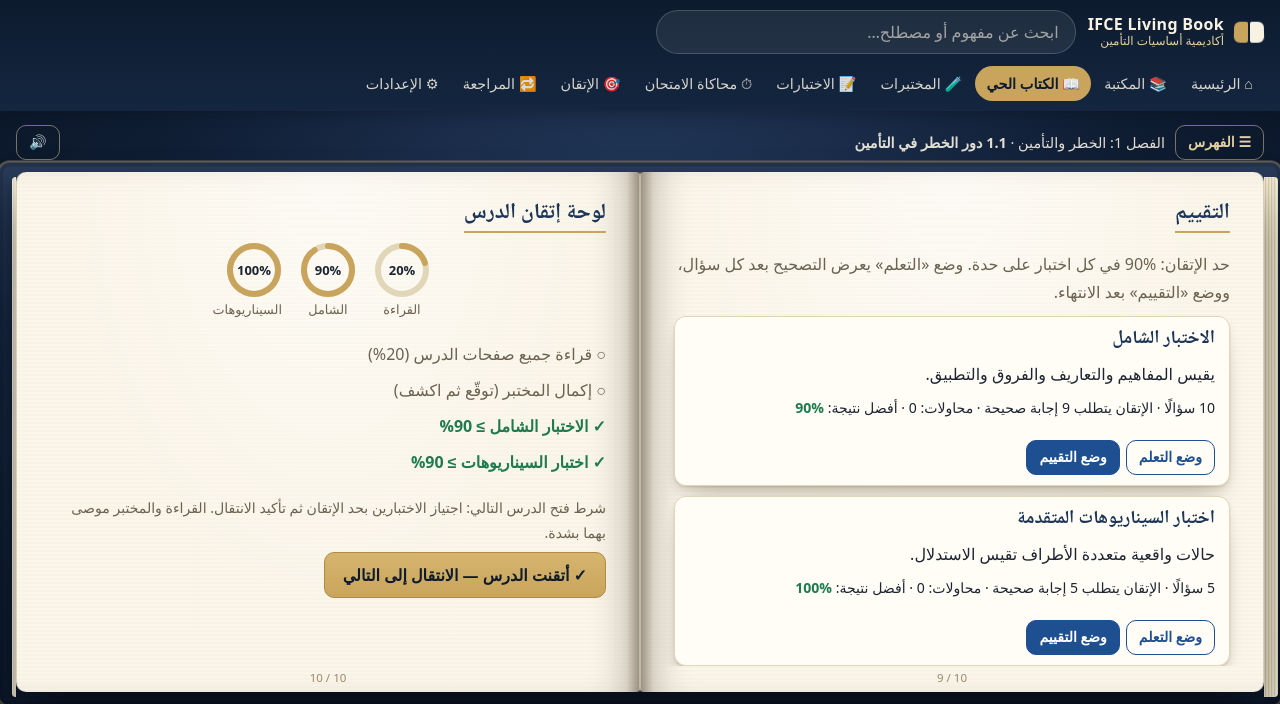
Scenario: mastery gate › unlocks the next lesson only after mastery AND confirmation
The image size is (1280, 704).
What coordinates should you click on to do the following:
click the button "✓ أتقنت الدرس — الانتقال إلى التالي"
I would click on:
 (465, 575)
Its box is [324, 552, 606, 598].
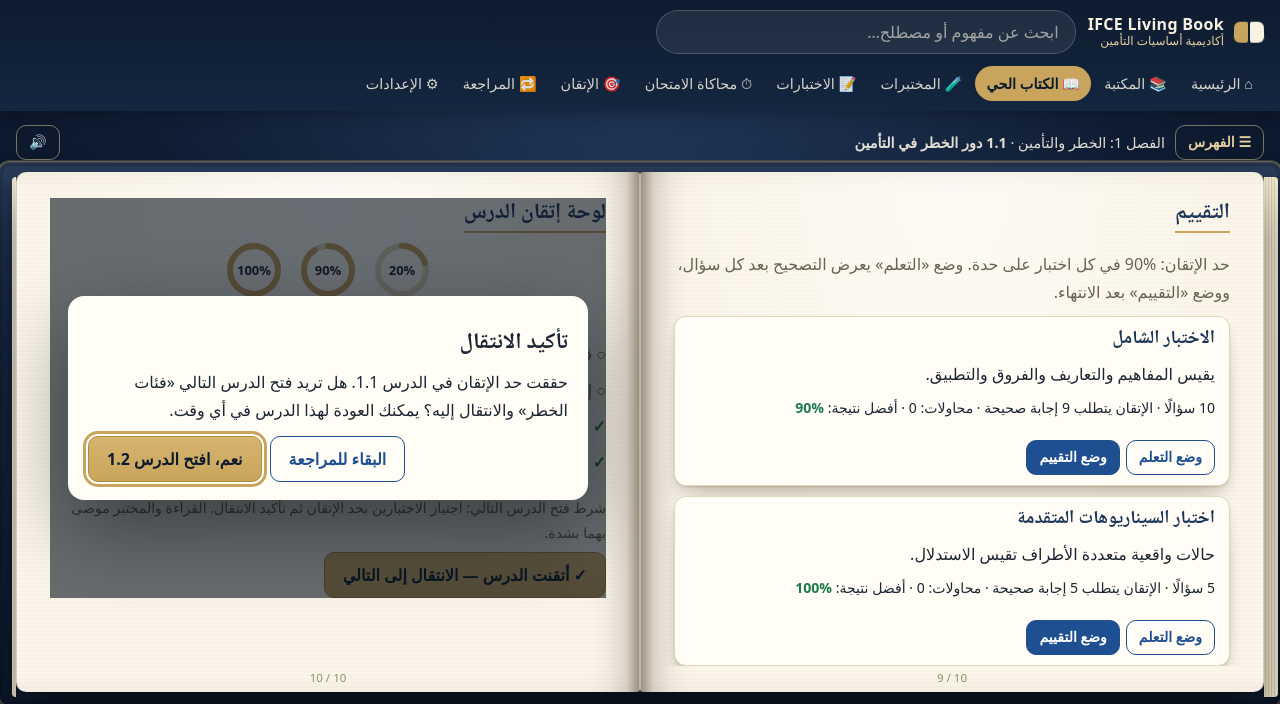
What coordinates should you click on to do the following:
click the button "نعم، افتح الدرس 1.2"
I would click on:
 (175, 459)
Its box is [88, 436, 262, 482].
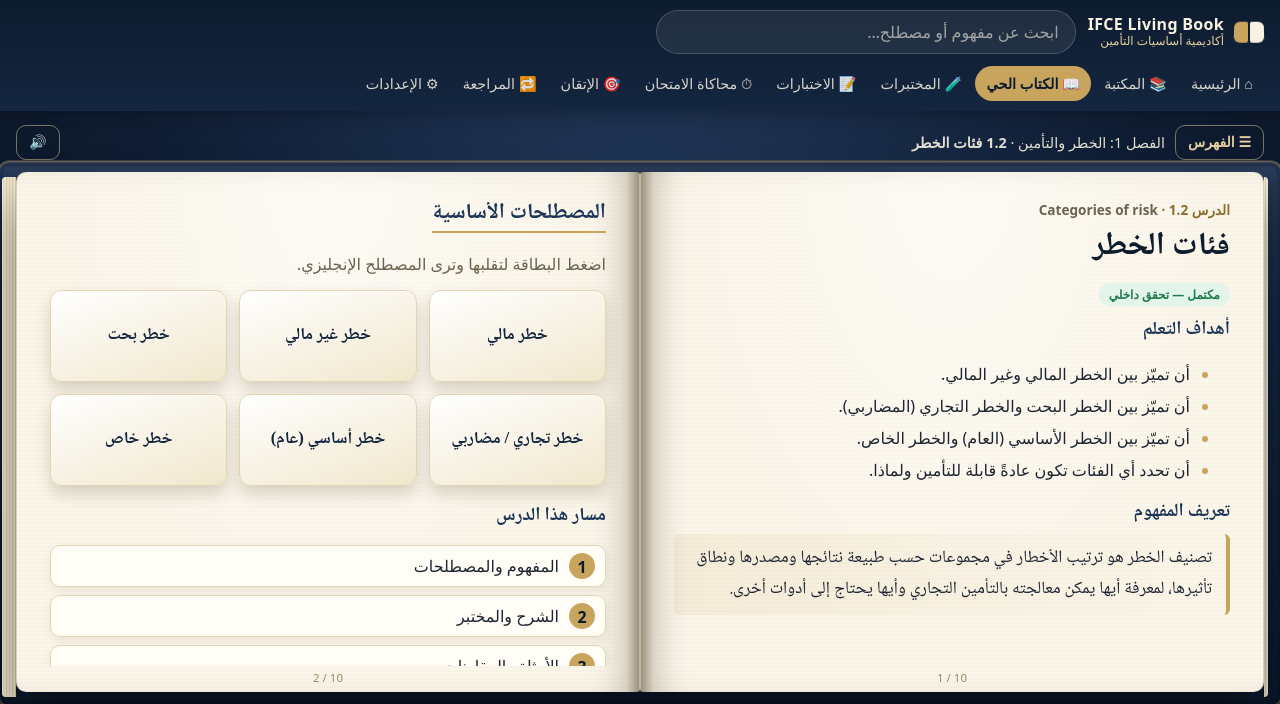
Result: the heading "فئات الخطر" is shown at [1093, 220, 1230, 274]
